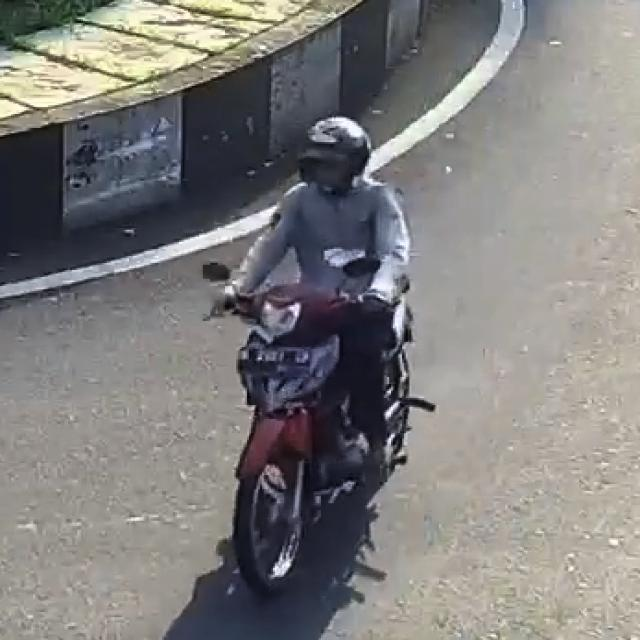helm: (290, 115, 383, 212)
motor: (197, 115, 423, 603)
spion: (317, 247, 389, 309), (199, 247, 264, 313)
